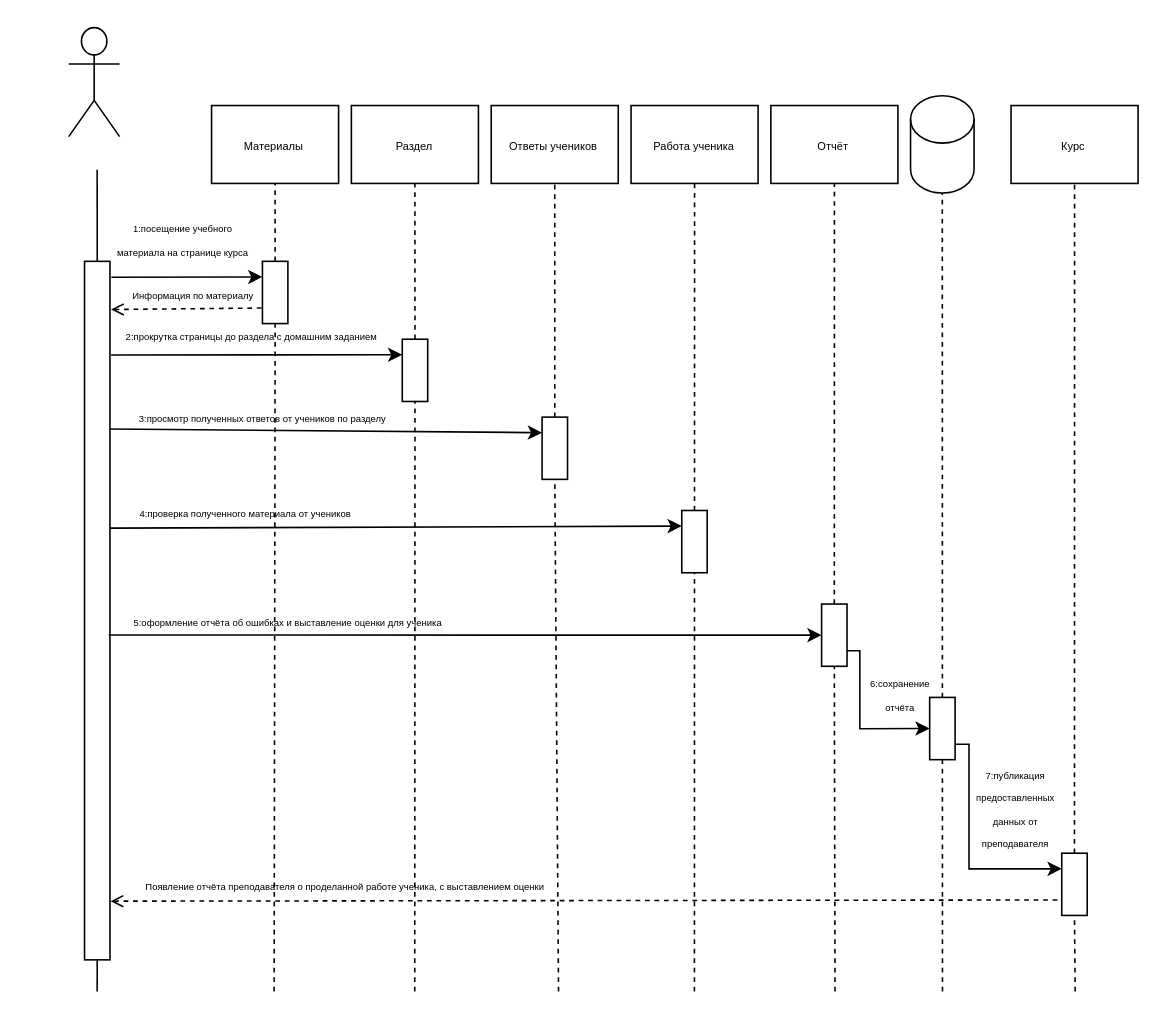
The diagram is 1168 pixels wide and 1021 high, and some of its shapes have lost their labels. Each missing label, with the centre of its shape:
БД: (x=941, y=143)
Преподаватель: (x=93, y=81)
